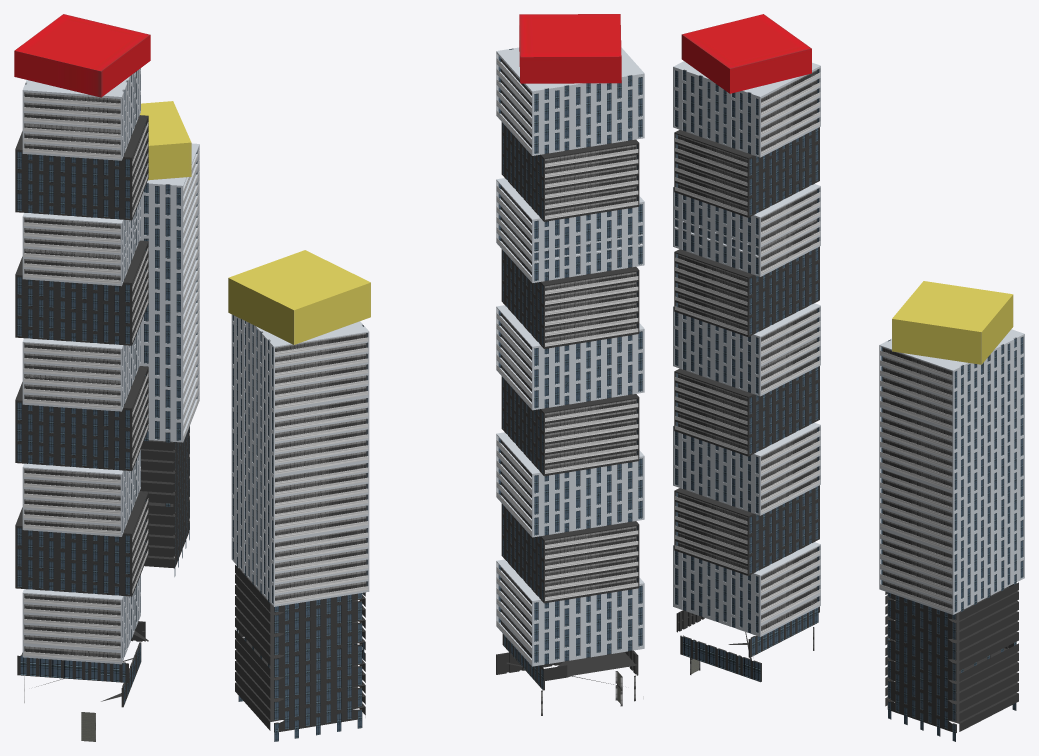
File: exchange-recorded-topped-structures.glb
The picture shows the model from 3 angles, left to right: view 1: azimuth 30°, elevation 25°; view 2: azimuth 150°, elevation 25°; view 3: azimuth 270°, elevation 25°; orthographic projection. The views are drawn at different scales.
Visible parts, largest first — view 1: EX1__exchange_63-6155_node1314_region0, EX1__exchange_63-6155_node1313_region0, EX1__exchange_63-6155_node1311_region2, EX1__exchange_63-6155_node1312_region0, EX1__exchange_63-6155_node1311_region6, EX2__exchange_63-6156_node1319_region0, EX1__exchange_63-6155_node1311_region4, EX2__exchange_63-6156_node1317_region0, EX2__exchange_63-6156_node1316_region0, EX2__exchange_63-6156_node1316_region1, EX2__exchange_63-6156_node1316_region2, EX1__exchange_63-6155_node1311_region3; view 2: EX1__exchange_63-6155_node1313_region0, EX1__exchange_63-6155_node1314_region0, EX1__exchange_63-6155_node1311_region2, EX2__exchange_63-6156_node1319_region0, EX1__exchange_63-6155_node1312_region0, EX1__exchange_63-6155_node1311_region6, EX2__exchange_63-6156_node1317_region0, EX2__exchange_63-6156_node1316_region3, EX2__exchange_63-6156_node1316_region0, EX2__exchange_63-6156_node1316_region2, EX2__exchange_63-6156_node1316_region1, EX1__exchange_63-6155_node1311_region4; view 3: EX1__exchange_63-6155_node1313_region0, EX1__exchange_63-6155_node1314_region0, EX1__exchange_63-6155_node1311_region2, EX2__exchange_63-6156_node1319_region0, EX1__exchange_63-6155_node1311_region6, EX1__exchange_63-6155_node1312_region0, EX2__exchange_63-6156_node1317_region0, EX2__exchange_63-6156_node1316_region0, EX2__exchange_63-6156_node1316_region3, EX2__exchange_63-6156_node1316_region1, EX2__exchange_63-6156_node1316_region2, EX1__exchange_63-6155_node1311_region4.
Part boxes in pixels (<box>): EX1__exchange_63-6155_node1314_region0: <box>15,115,148,726</box>; EX1__exchange_63-6155_node1313_region0: <box>22,68,140,664</box>; EX1__exchange_63-6155_node1311_region2: <box>17,69,146,704</box>; EX1__exchange_63-6155_node1312_region0: <box>23,96,148,678</box>; EX1__exchange_63-6155_node1311_region6: <box>24,92,120,658</box>; EX2__exchange_63-6156_node1319_region0: <box>139,143,199,442</box>; EX1__exchange_63-6155_node1311_region4: <box>14,14,150,97</box>; EX2__exchange_63-6156_node1317_region0: <box>140,426,189,568</box>; EX2__exchange_63-6156_node1316_region0: <box>144,151,197,576</box>; EX2__exchange_63-6156_node1316_region1: <box>140,101,191,180</box>; EX2__exchange_63-6156_node1316_region2: <box>183,150,199,439</box>; EX1__exchange_63-6155_node1311_region3: <box>81,712,95,741</box>; EX1__exchange_63-6155_node1313_region0: <box>496,47,644,666</box>; EX1__exchange_63-6155_node1314_region0: <box>496,122,639,690</box>; EX1__exchange_63-6155_node1311_region2: <box>498,48,642,689</box>; EX2__exchange_63-6156_node1319_region0: <box>231,314,369,606</box>; EX1__exchange_63-6155_node1312_region0: <box>496,58,643,699</box>; EX1__exchange_63-6155_node1311_region6: <box>501,59,639,658</box>; EX2__exchange_63-6156_node1317_region0: <box>235,565,365,732</box>; EX2__exchange_63-6156_node1316_region3: <box>275,333,366,600</box>; EX2__exchange_63-6156_node1316_region0: <box>232,315,367,741</box>; EX2__exchange_63-6156_node1316_region2: <box>275,337,368,731</box>; EX2__exchange_63-6156_node1316_region1: <box>228,250,370,344</box>; EX1__exchange_63-6155_node1311_region4: <box>519,14,621,83</box>; EX1__exchange_63-6155_node1313_region0: <box>673,61,820,636</box>; EX1__exchange_63-6155_node1314_region0: <box>674,127,819,682</box>; EX1__exchange_63-6155_node1311_region2: <box>675,69,818,681</box>; EX2__exchange_63-6156_node1319_region0: <box>879,329,1024,614</box>; EX1__exchange_63-6155_node1311_region6: <box>677,70,817,630</box>; EX1__exchange_63-6155_node1312_region0: <box>675,72,820,658</box>; EX2__exchange_63-6156_node1317_region0: <box>885,582,1018,732</box>; EX2__exchange_63-6156_node1316_region0: <box>881,337,1023,741</box>; EX2__exchange_63-6156_node1316_region3: <box>882,347,952,608</box>; EX2__exchange_63-6156_node1316_region1: <box>892,281,1013,364</box>; EX2__exchange_63-6156_node1316_region2: <box>880,350,952,612</box>; EX1__exchange_63-6155_node1311_region4: <box>681,14,811,93</box>.
Bounding box in the file's own units: 88.13 × 193 × 96.12.
14 materials, 14 textured.
